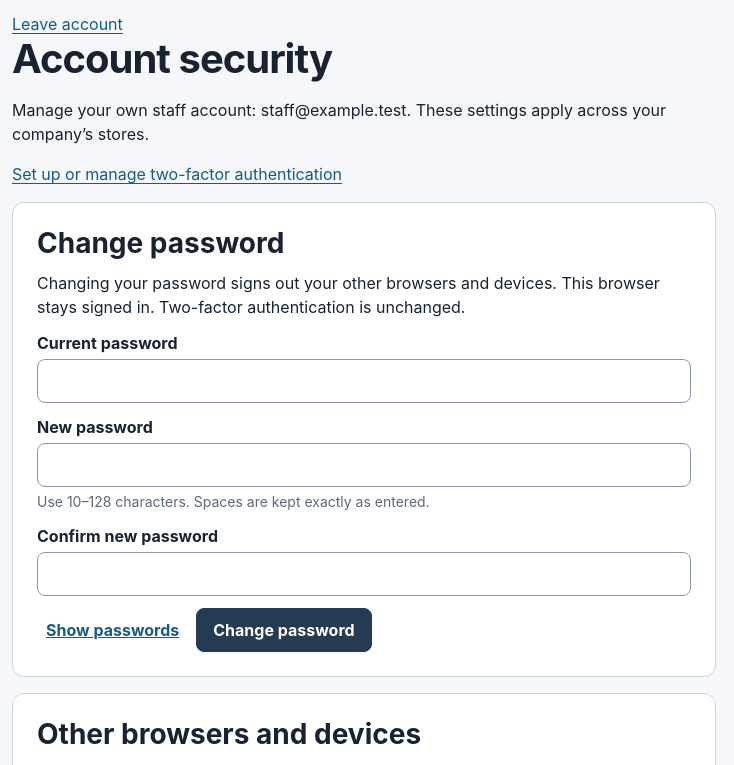
does not replay or infer an unknown password outcome from a successful session read: {"name":"HttpError","kind":"network","status":null,"problem":null,"traceId"
Type " old password " into the password field labelled "Current password" at (364, 381), box top-left (37, 359), bottom-right (691, 403)
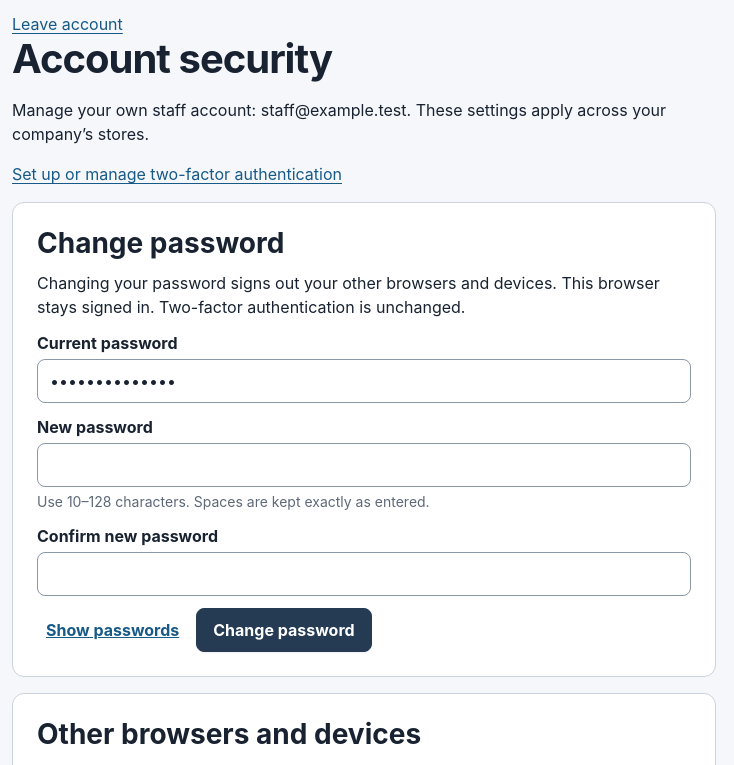
Type " new password " into the password field labelled "New password" at (364, 465), box top-left (37, 443), bottom-right (691, 487)
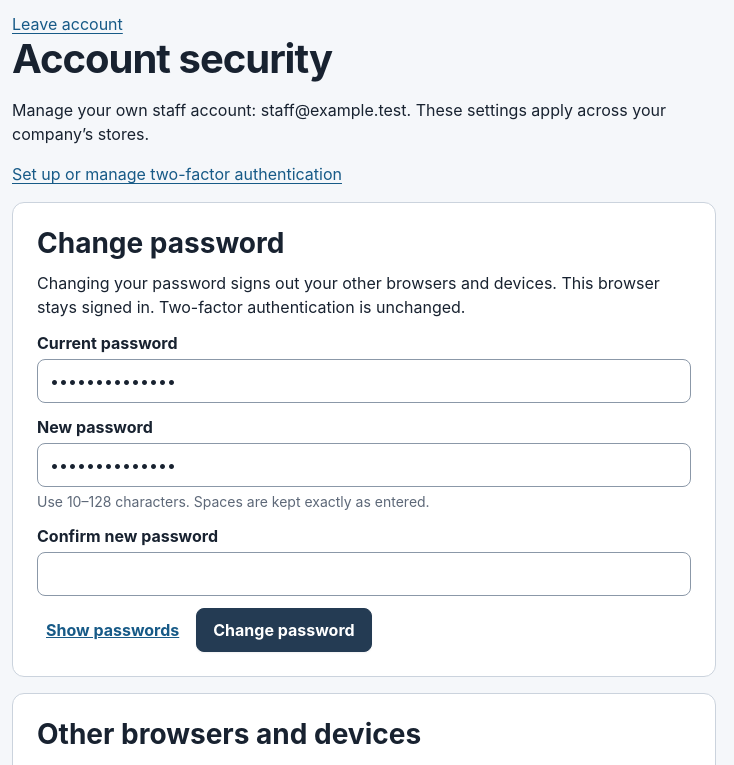
Type " new password " into the password field labelled "Confirm new password" at (364, 574), box top-left (37, 552), bottom-right (691, 596)
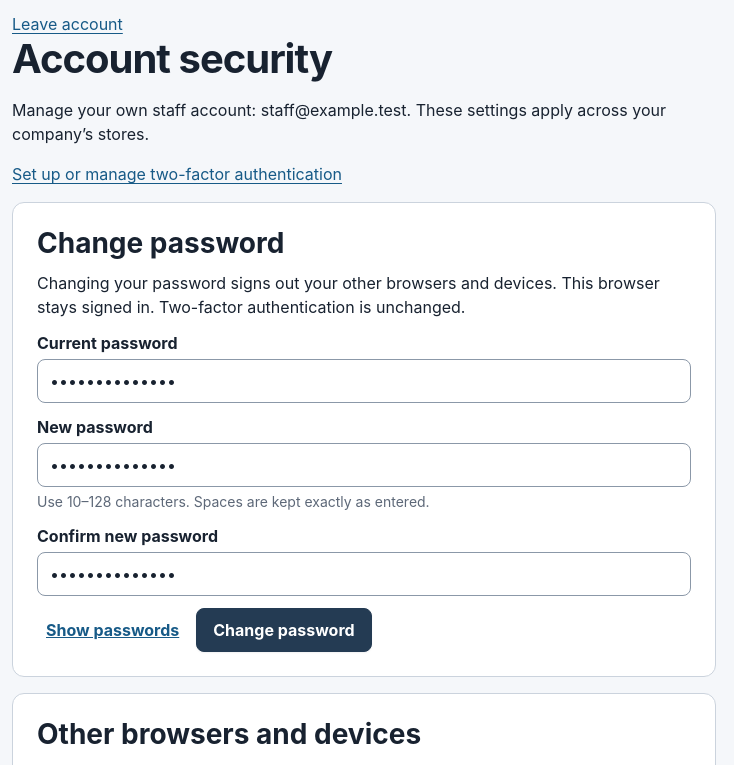
Submit the form, box top-left (37, 331), bottom-right (691, 652)
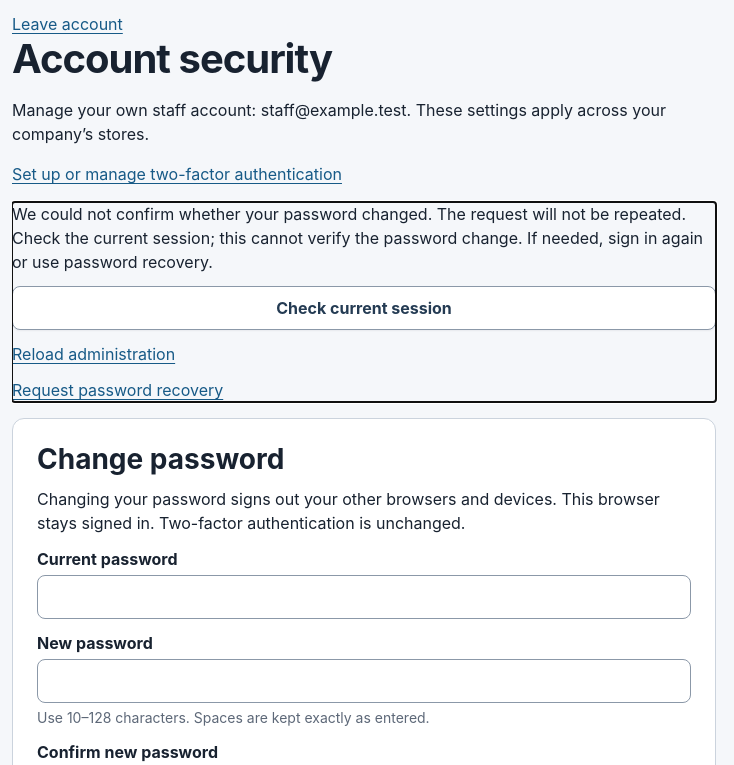
Expected: the text "We could not confirm whether your password changed. The request will not be repeated. Check the current session; this ca" is shown, top-left (12, 204), bottom-right (703, 272)
Expected: the password field labelled "Current password" is empty, top-left (37, 575), bottom-right (691, 619)
Expected: the password field labelled "New password" is empty, top-left (37, 659), bottom-right (691, 703)
Click the button "Check current session" at (364, 308), box top-left (12, 286), bottom-right (716, 330)
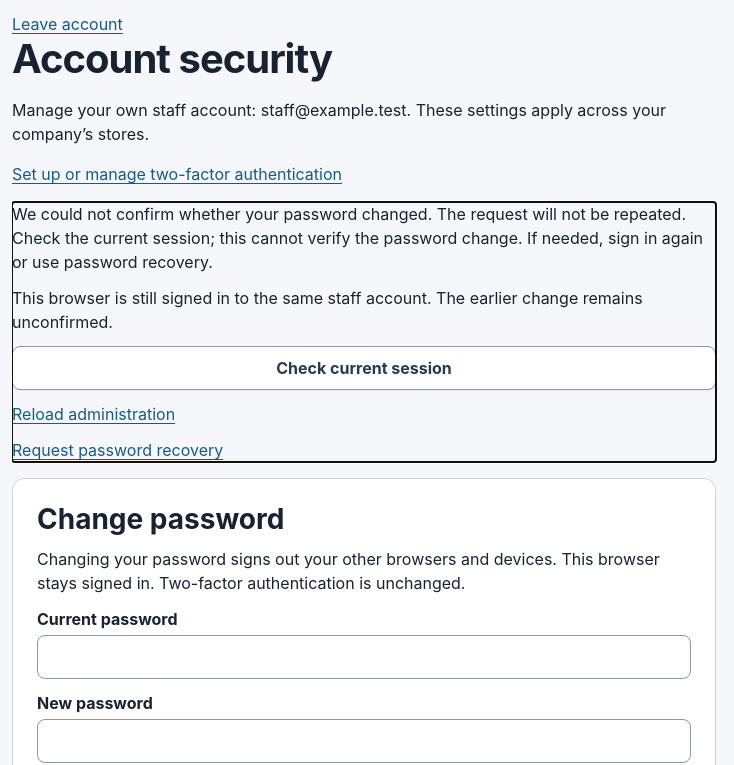
Expected: the password field labelled "Current password" is disabled, top-left (37, 635), bottom-right (691, 679)
Expected: the text "This browser is still signed in to the same staff account. The earlier change remains unconfirmed." is shown, top-left (12, 288), bottom-right (643, 332)
